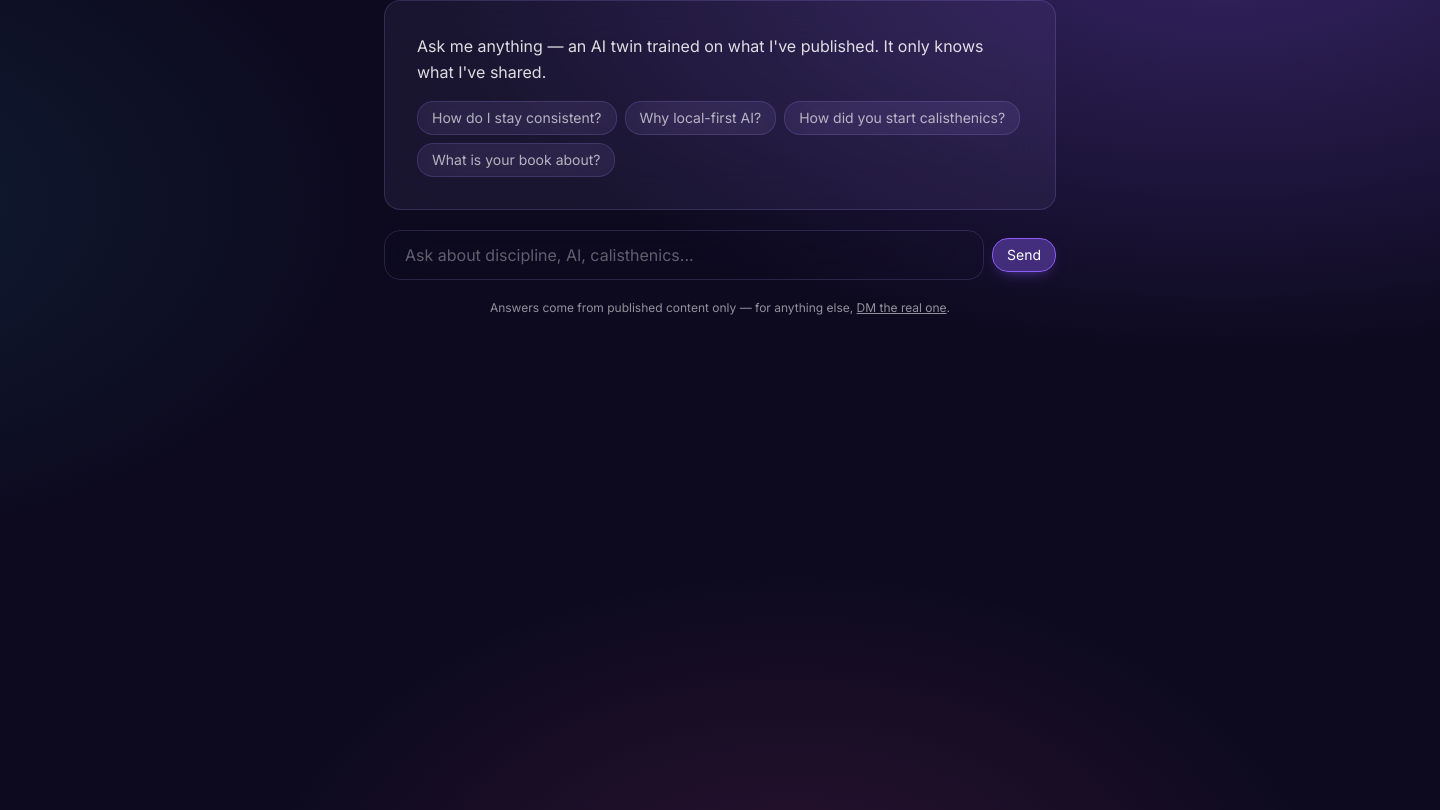
it: AskChat › sends a question and renders the twin reply
In the field with test id "ask-input": (684, 255) [384,230,984,280], type "How do I stay consistent?"
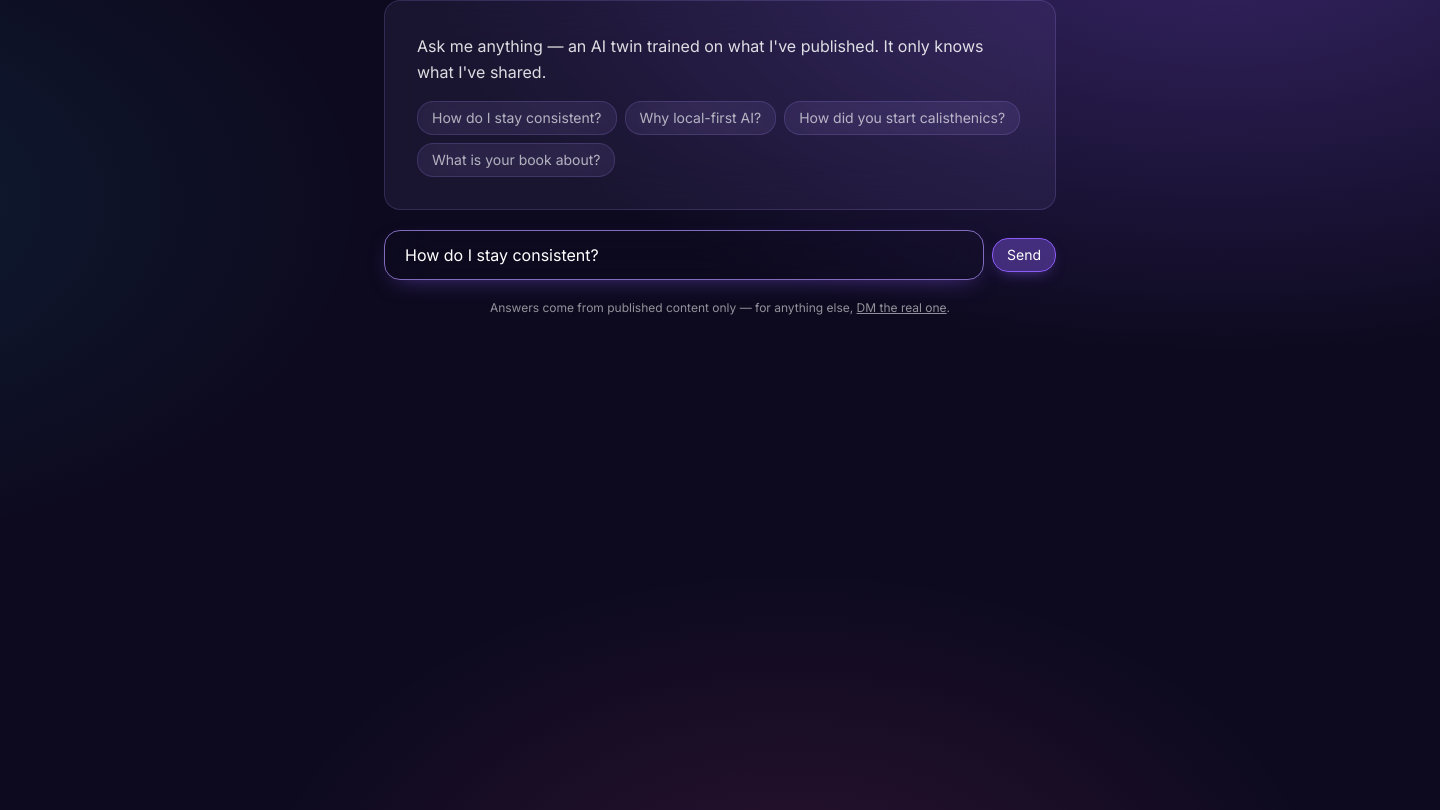
Click the button with test id "ask-send": (1024, 255) [992,238,1056,272]
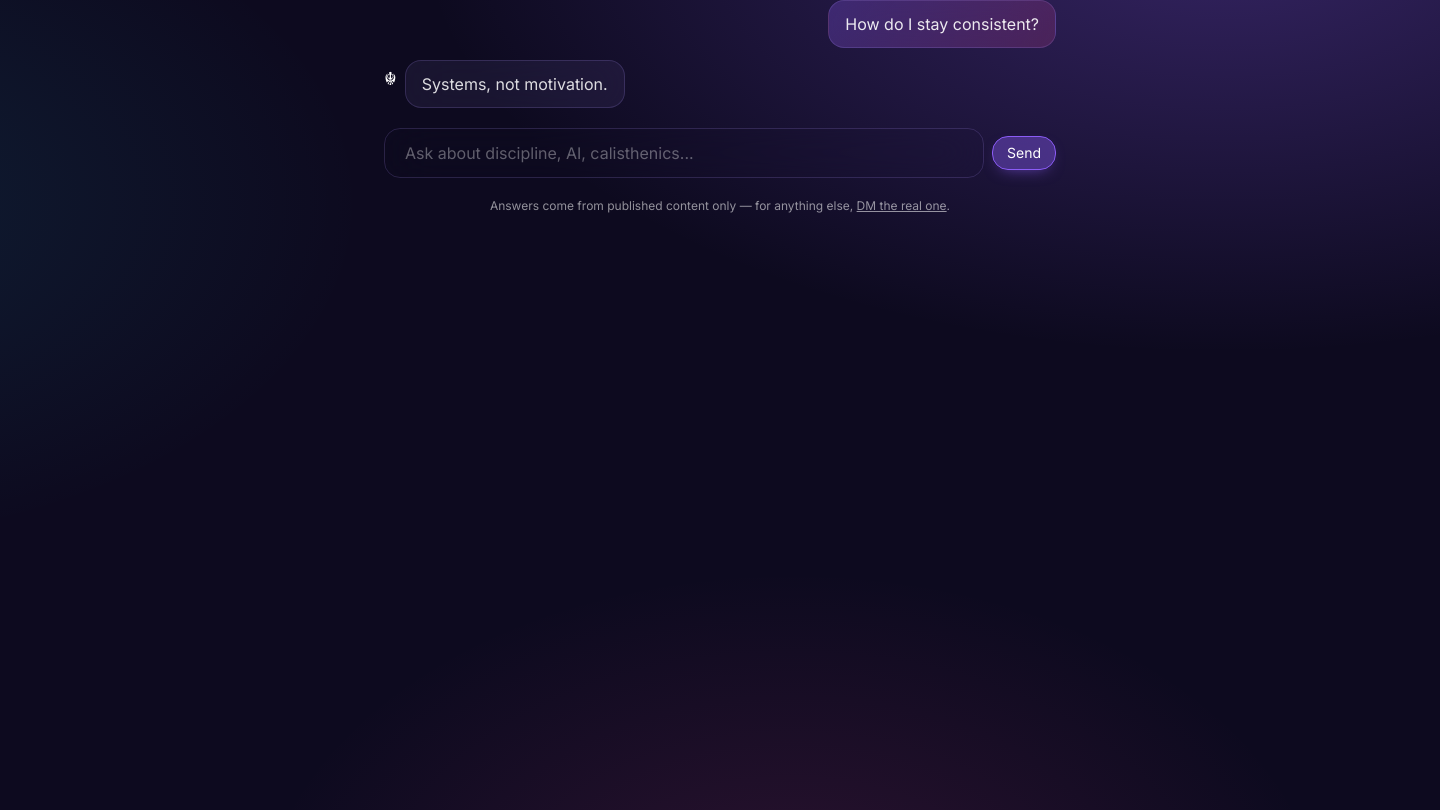
Expected: the text "Systems, not motivation." is shown, [422,71,608,97]
